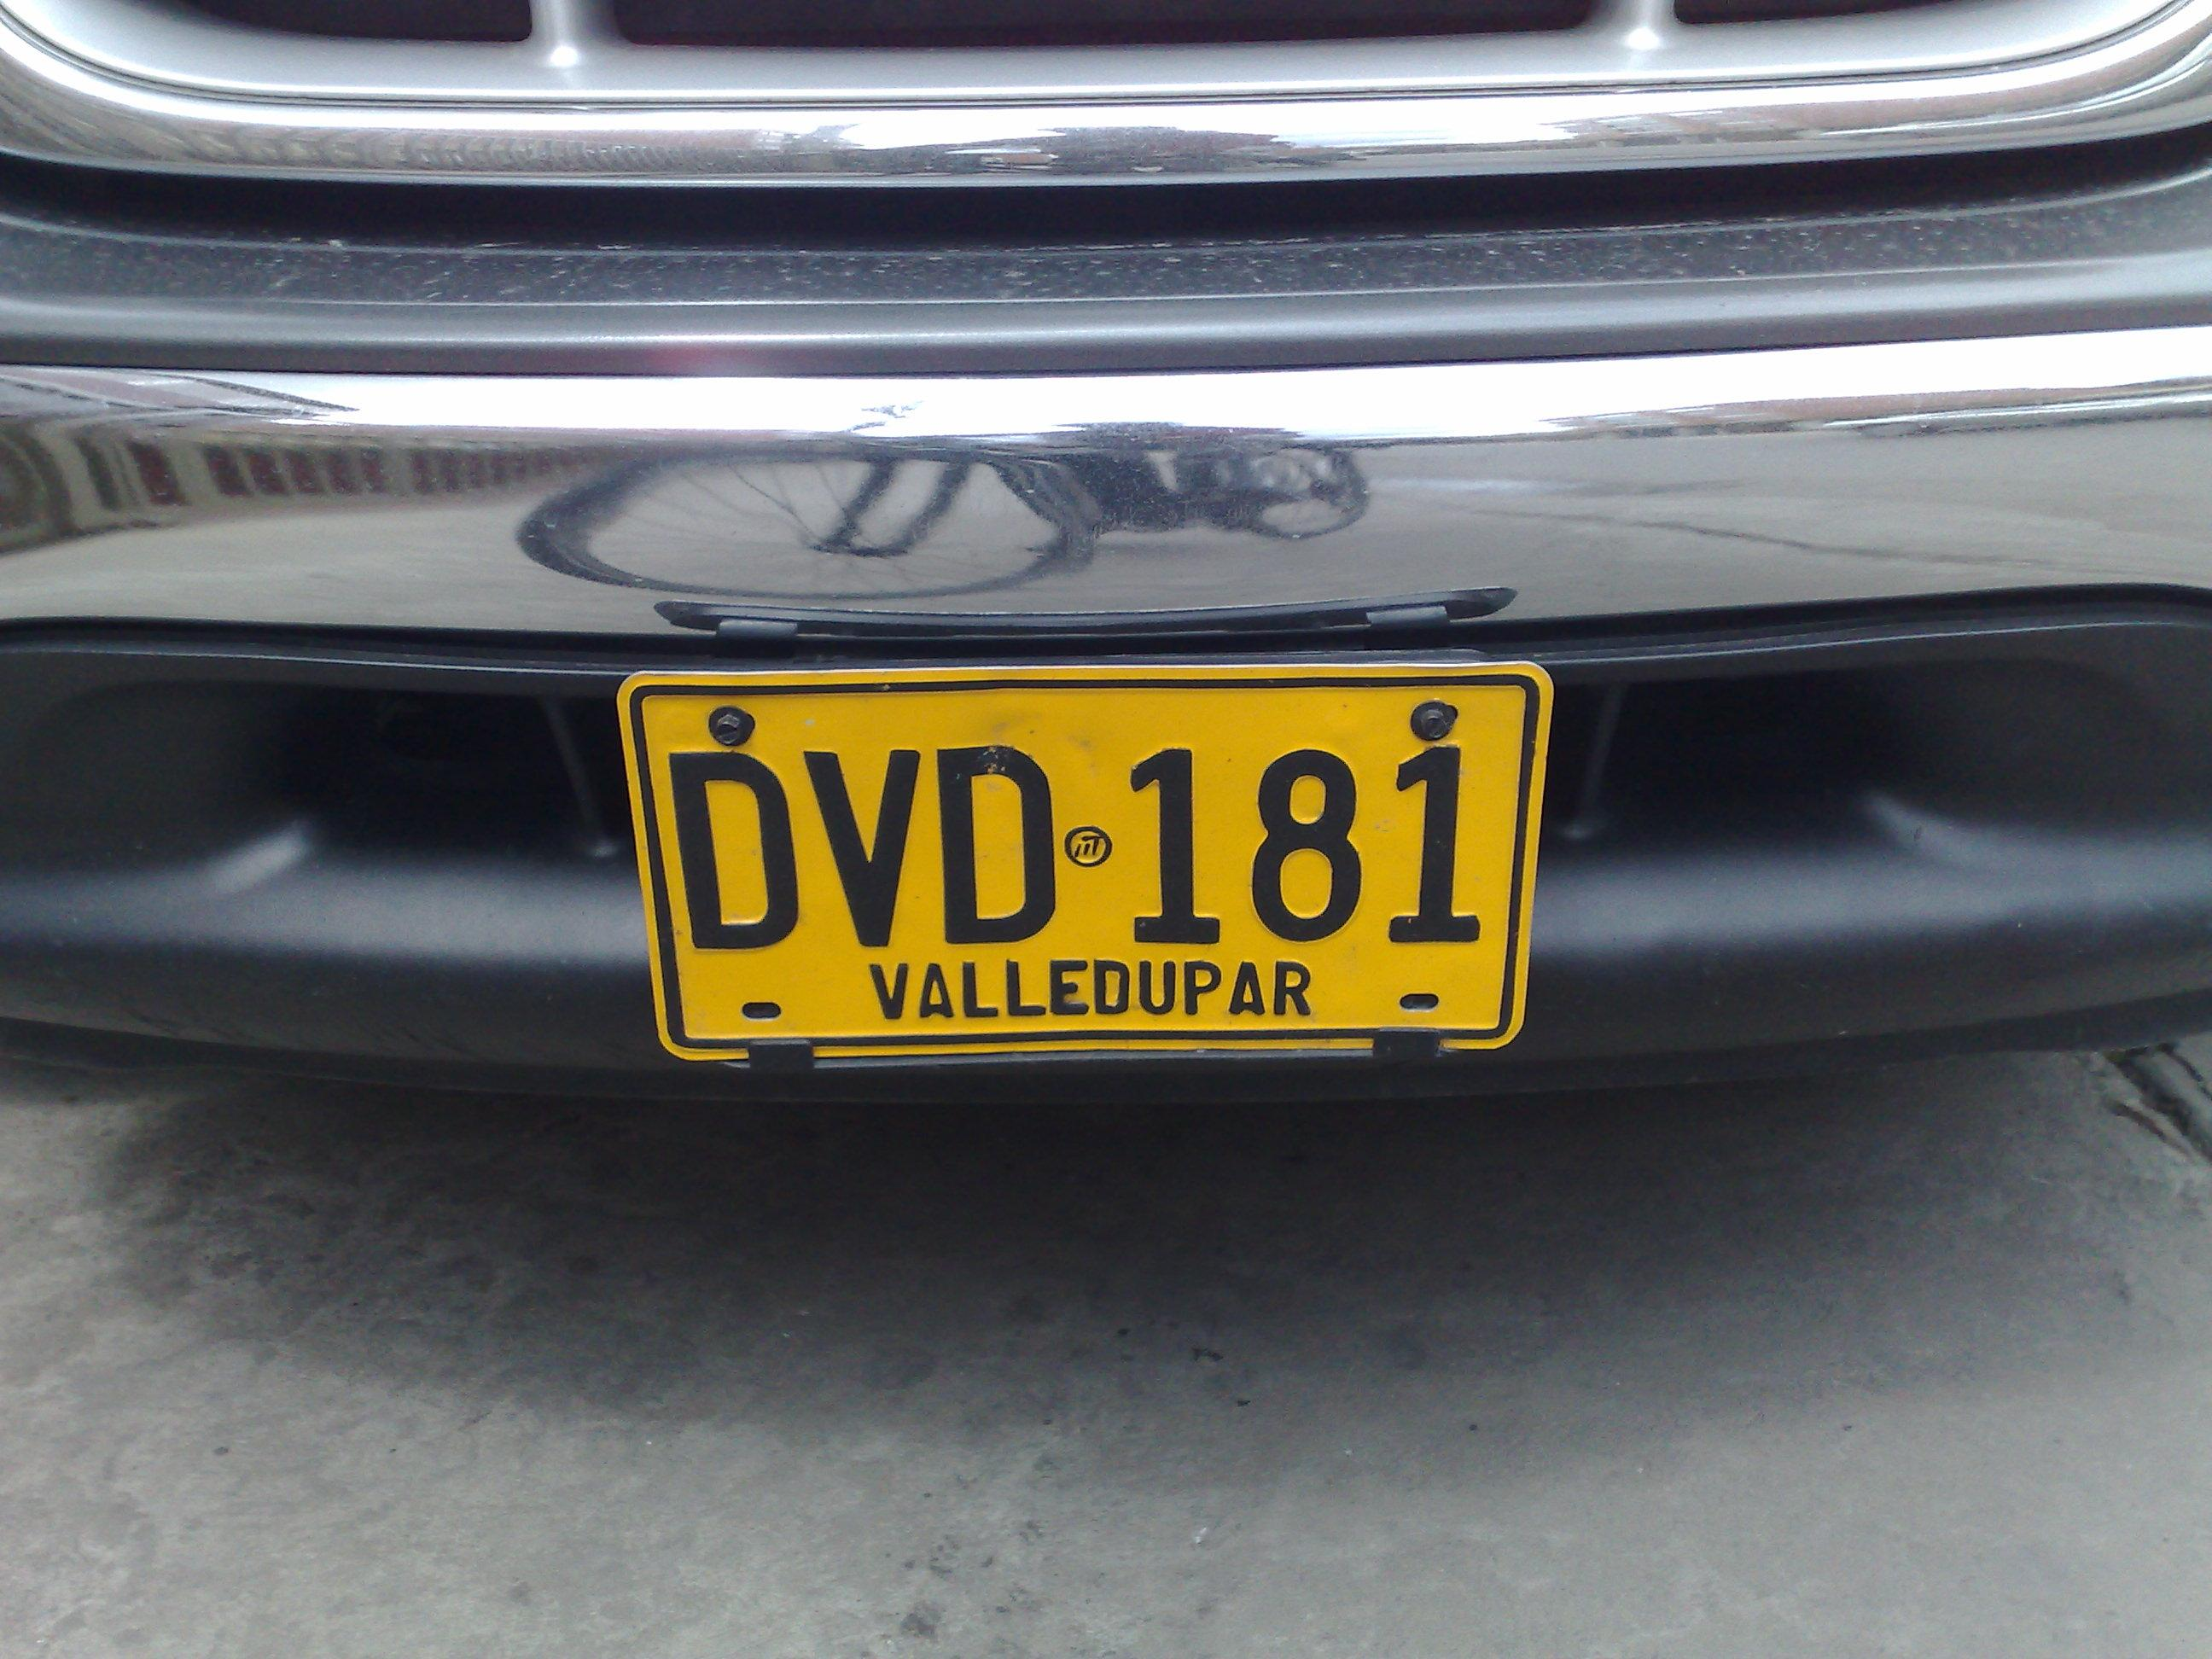placas: (607, 652, 1558, 1073)
